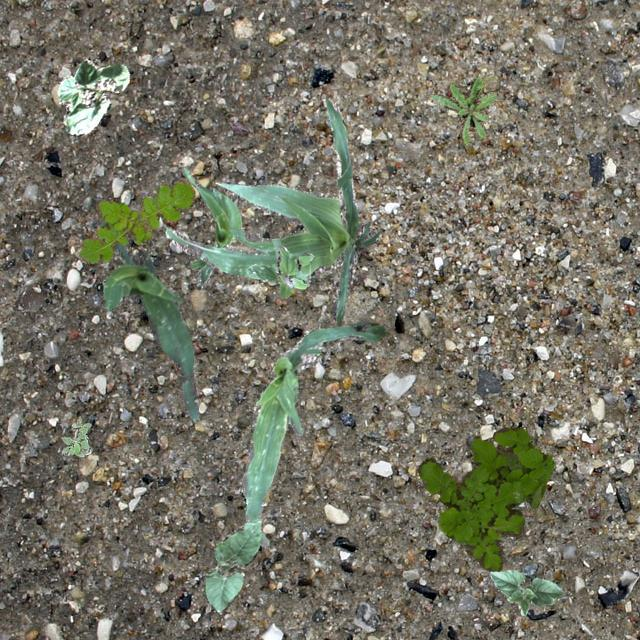crop: (164, 96, 378, 324), (240, 322, 386, 546), (100, 220, 198, 420), (180, 166, 240, 288), (56, 58, 128, 134), (204, 518, 260, 612), (488, 568, 564, 614)
weed: (418, 426, 554, 570), (78, 178, 194, 262), (428, 76, 496, 144), (246, 245, 314, 298), (60, 418, 90, 456)
